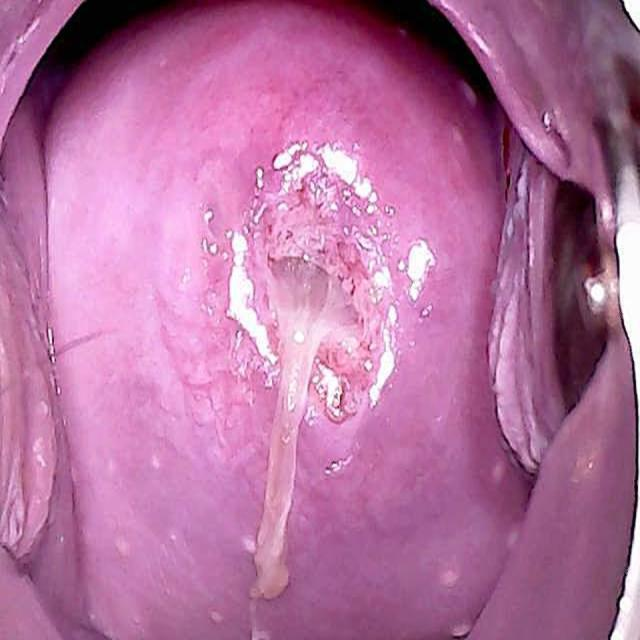cervical_lesion: (163, 87, 452, 606)
